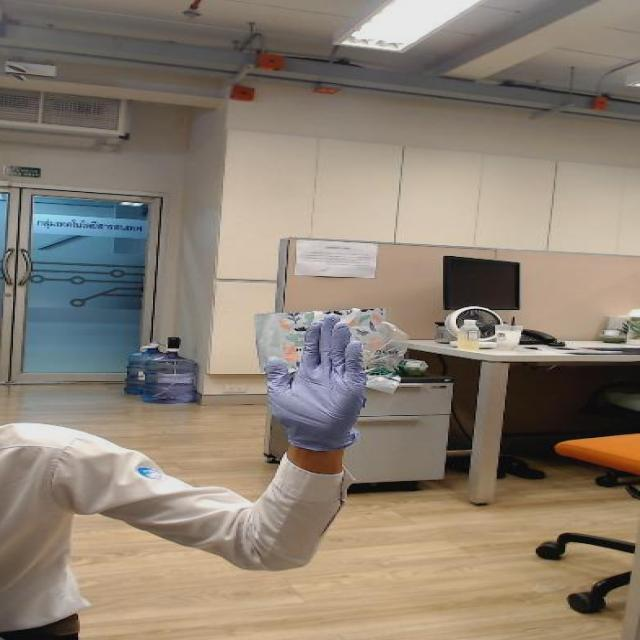glove: (254, 309, 378, 421)
